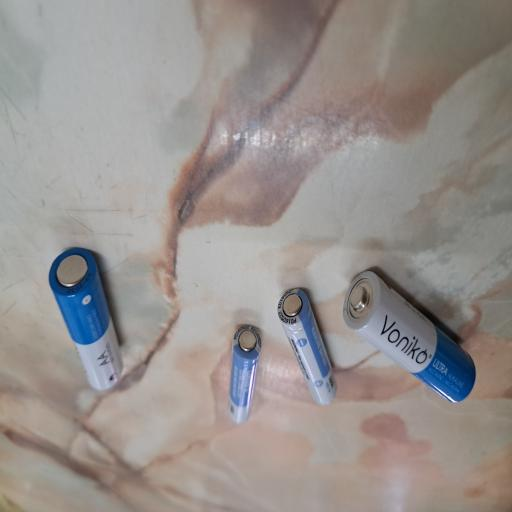battery: (37, 108, 169, 244), (388, 122, 463, 266), (176, 107, 236, 226), (249, 89, 285, 188)
